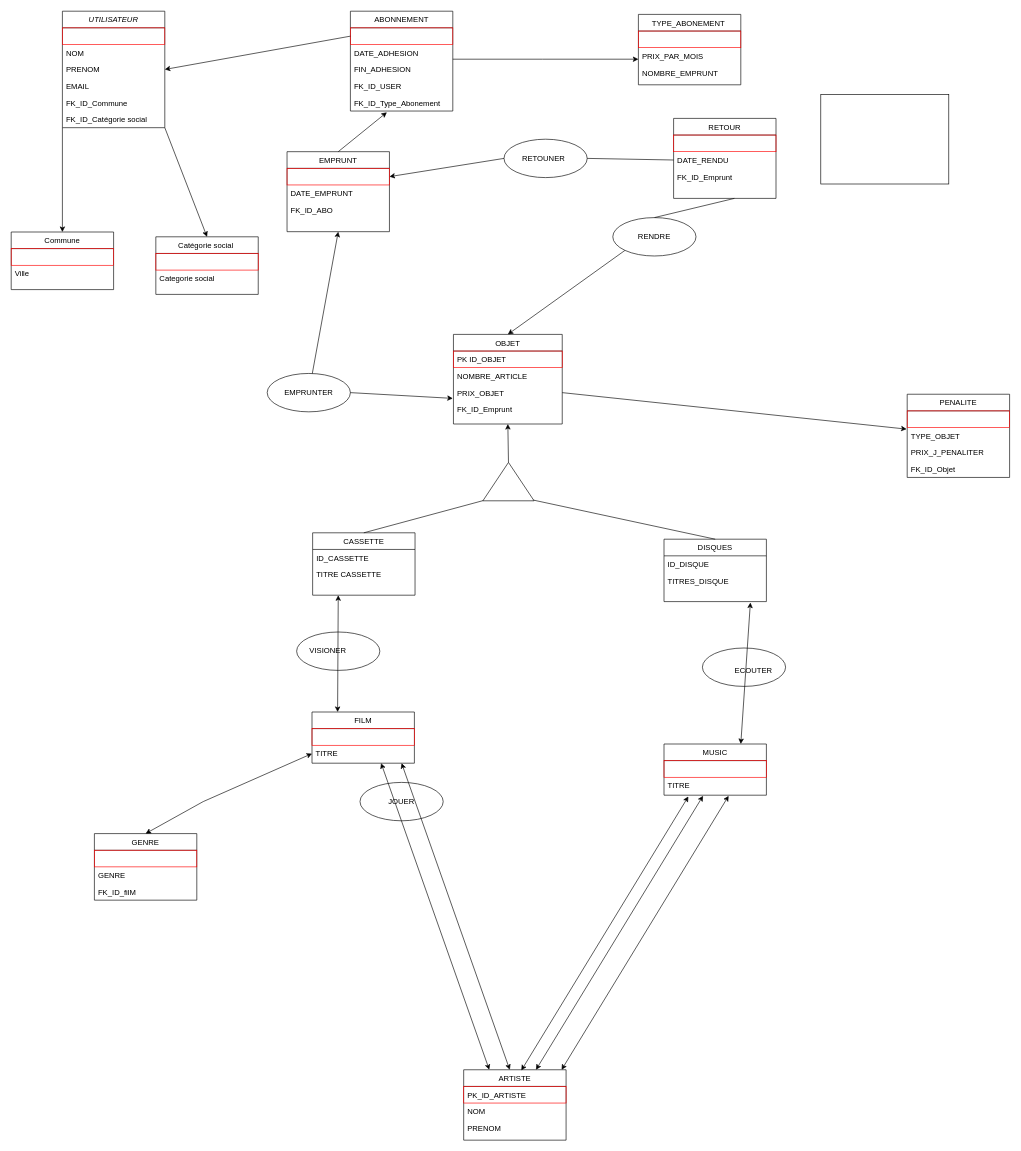
This 1021x1151 diagram has some shape labels left out. The shapes that lost their labels are listed below. From the top down, each one's centre as x and y in pixels, then its label:
[113,35]: PK ID_USER
[401,35]: PK ID_ABO
[689,39]: PK ID TYPE abonnement
[724,143]: PK ID_RETOUR
[884,139]: GROUPE 5 - 3SRC1 Maxime HABERMANN Mukilventhan GEORGE Mohamed WAZANE Théo PAYEN
[337,176]: PK ID_EMPRUNT
[62,256]: PK ID_Commune
[206,261]: PK ID_Categorie social
[958,419]: PK ID_PENALITE
[362,736]: PK ID_FILM
[714,768]: PK D_MUSIQUE
[145,858]: PK_ID_GENRE
